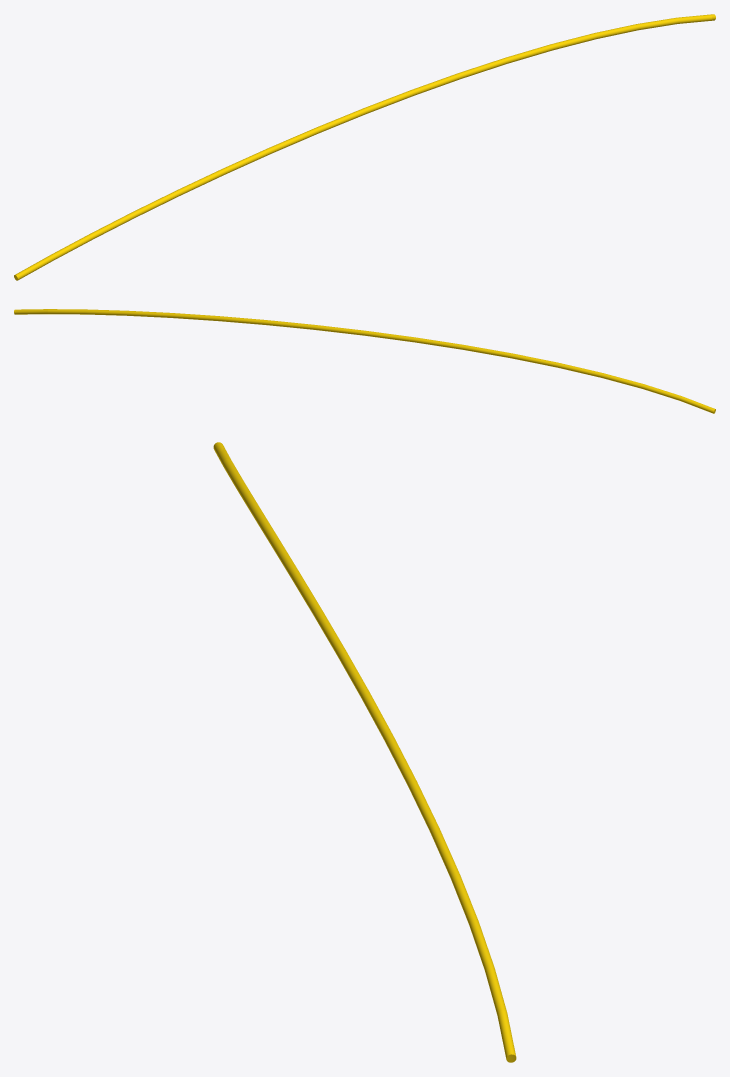
The model's file is Event_421278790_track_52.fbx.
3 renders of one model, top to bottom at view 1: azimuth 30°, elevation 25°; view 2: azimuth 150°, elevation 25°; view 3: azimuth 270°, elevation 25°, orthographic. The views are drawn at different scales.
Visible parts, largest first — view 1: Model; view 2: Model; view 3: Model.
Part boxes in pixels (x1,y1,x2,y2): Model: (14, 14, 715, 280); Model: (14, 309, 715, 413); Model: (213, 442, 516, 1062).
Size of the model in its own units: 5.64 by 0.287 by 1.18.
